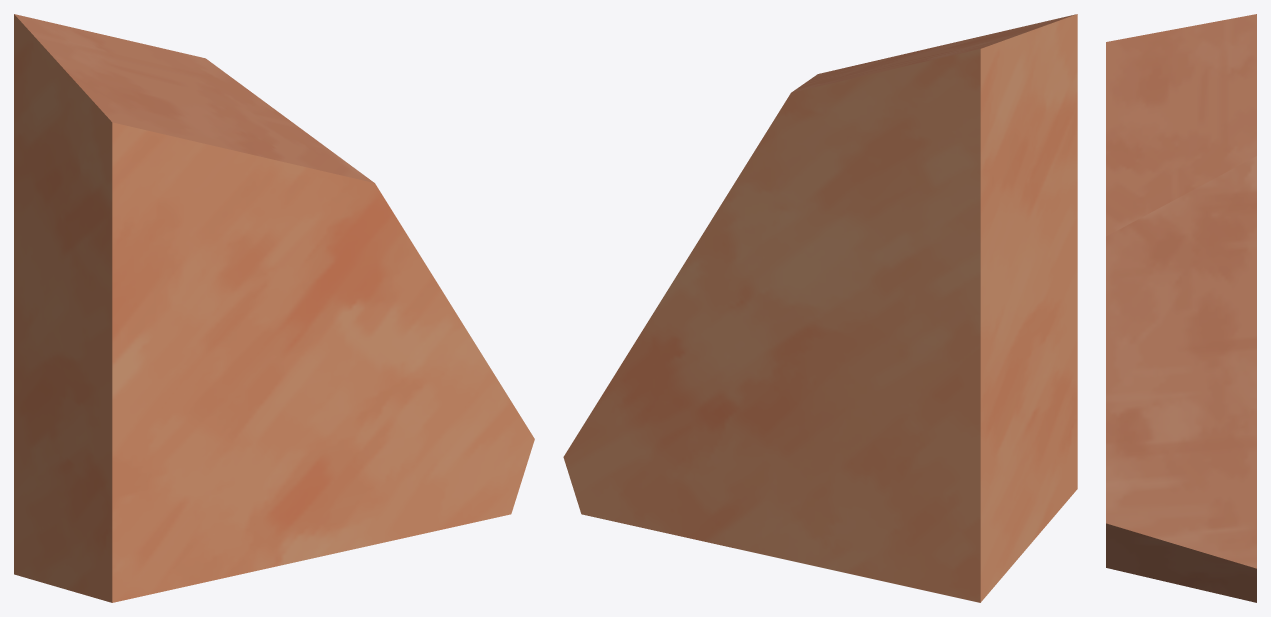
Rendered from wall2_upper_s06.fbx.
The picture shows the model from 3 angles, left to right: view 1: azimuth 30°, elevation 25°; view 2: azimuth 150°, elevation 25°; view 3: azimuth 270°, elevation 25°; orthographic projection. The views are drawn at different scales.
Parts seen in each view (by area): view 1: wall2_upper_s06; view 2: wall2_upper_s06; view 3: wall2_upper_s06.
Part boxes in pixels (box(x1,y1,x2,y2)): wall2_upper_s06: box(14, 14, 534, 602); wall2_upper_s06: box(563, 14, 1077, 602); wall2_upper_s06: box(1106, 14, 1256, 602).
Bounding box in the file's own units: 2.49 × 3.2 × 1.
